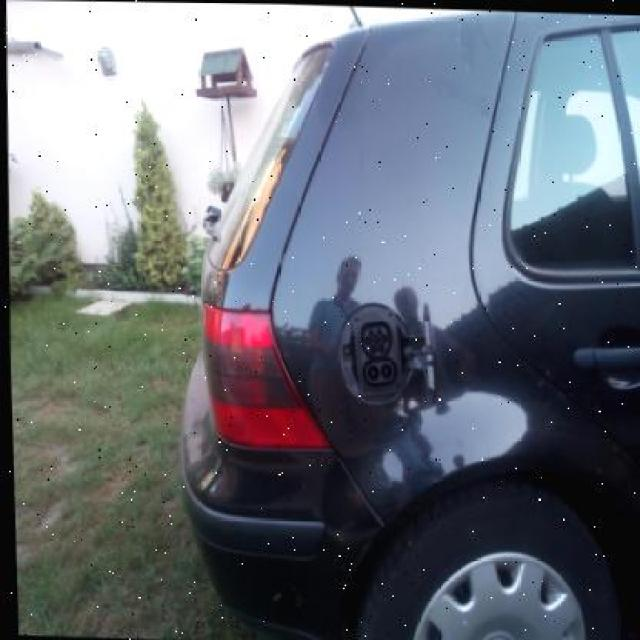CCS2: (325, 298, 418, 402)
